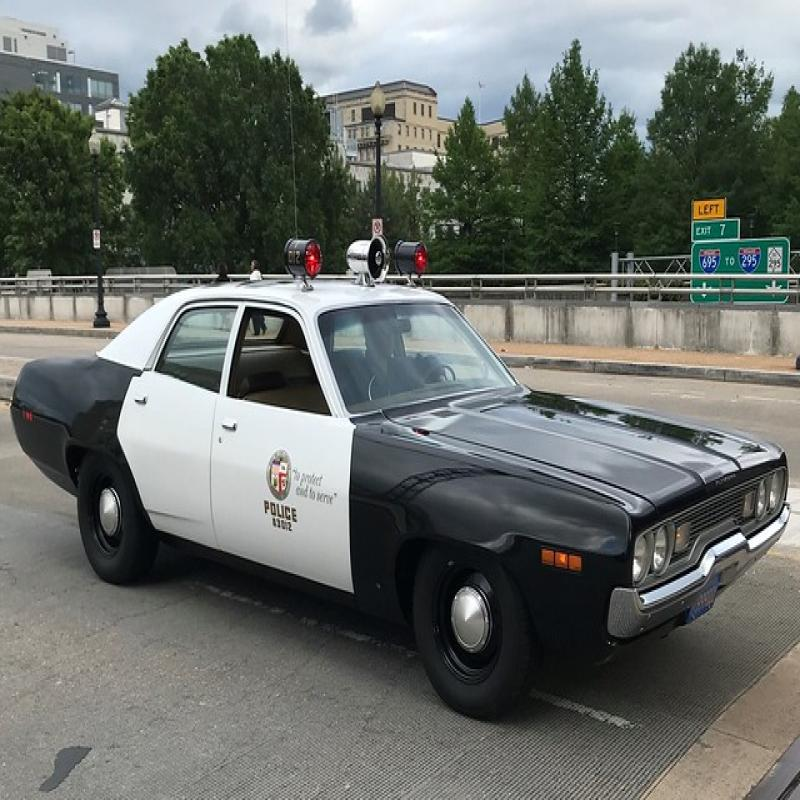AmbulanceSiren: (284, 190, 460, 316)
